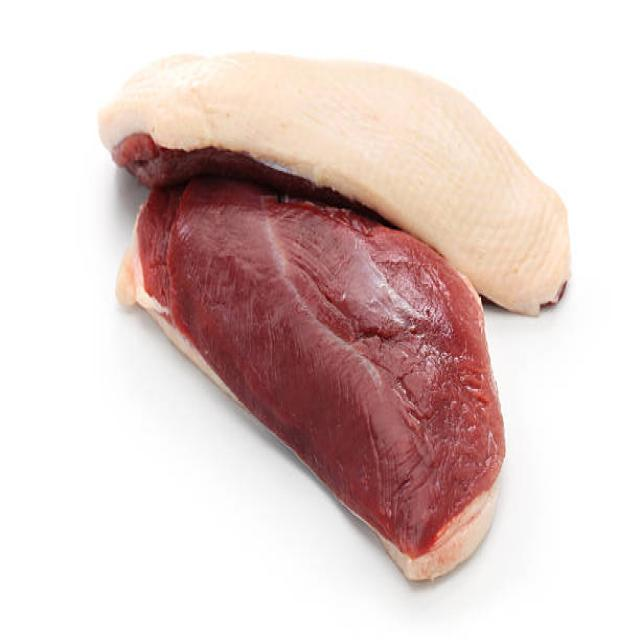duck: (99, 52, 570, 314)
